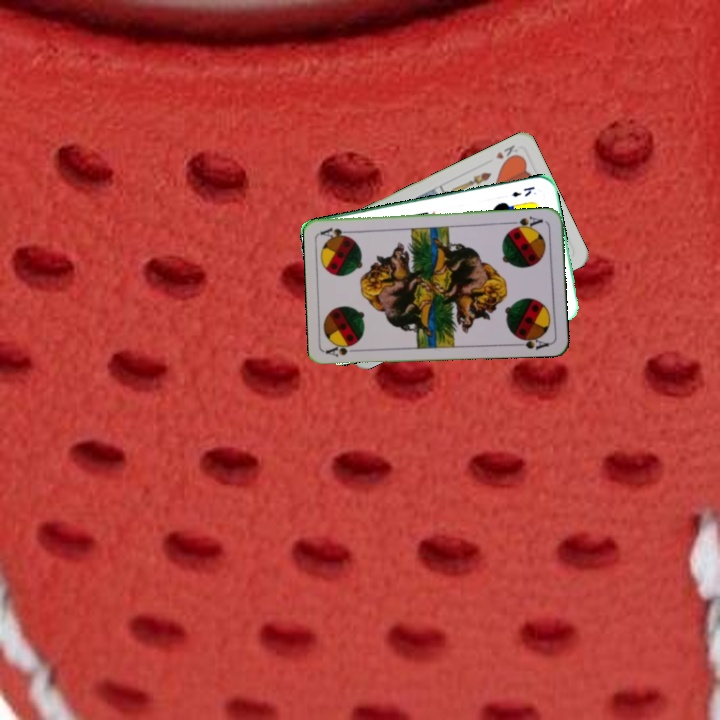EK: (508, 182, 537, 199)
HK: (492, 141, 523, 165)
SA: (323, 340, 364, 359), (507, 212, 545, 232)
